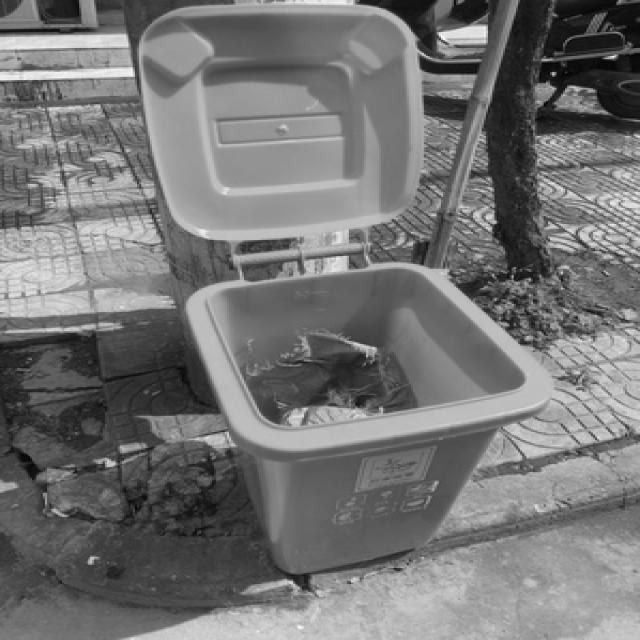ash bin: (133, 3, 552, 574)
